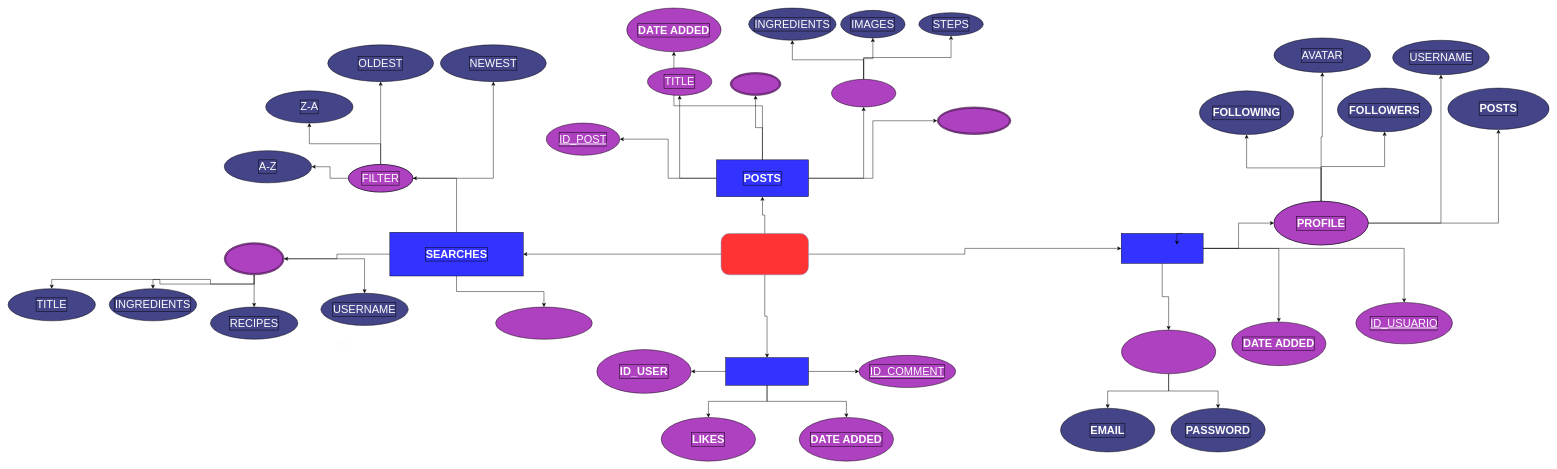
Some shapes in this 1557 by 469 pixel diagram are drawn without their labels. The centre of each missing label's shape, as x and y in pixels:
"COMMENTS" belongs at pixel 766 371.
"CONTENT" belongs at pixel 863 93.
"HIREABLE" belongs at pixel 974 120.
"ID_SEARCH" belongs at pixel 543 323.
"LOGIN" belongs at pixel 1168 352.
"QUERY" belongs at pixel 254 258.
"RECIPEGOD" belongs at pixel 764 254.
"TAGS" belongs at pixel 755 83.
"USERS" belongs at pixel 1162 248.
